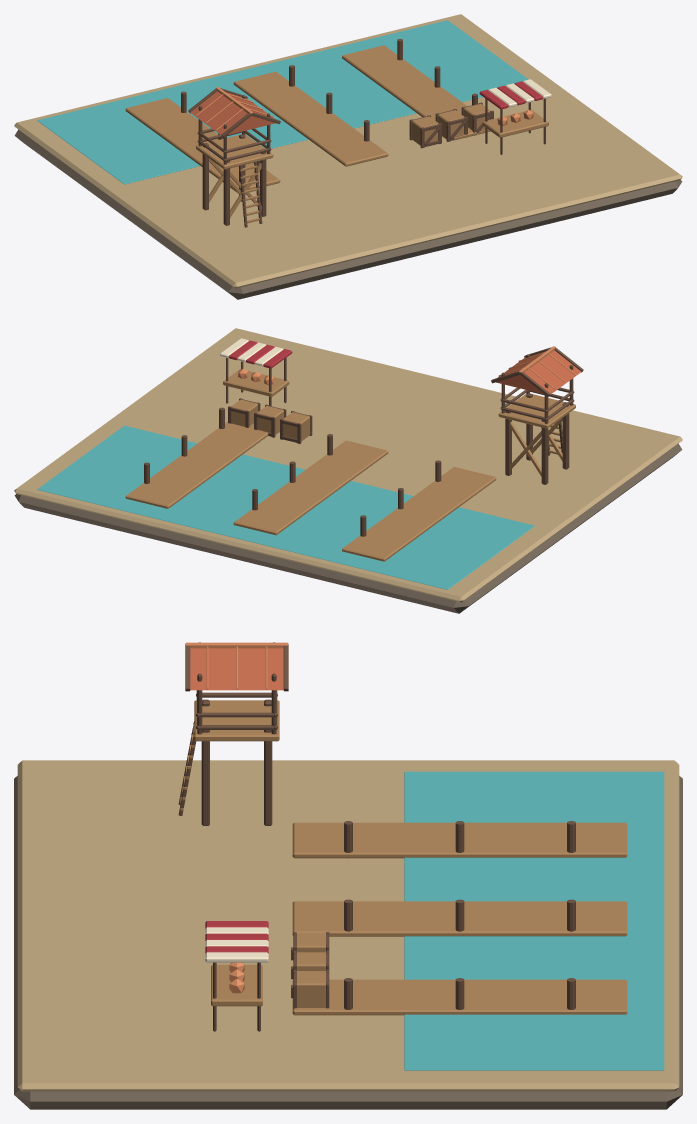
The model's file is world-harbor.glb.
3 renders of one model, top to bottom at view 1: azimuth 30°, elevation 25°; view 2: azimuth 150°, elevation 25°; view 3: azimuth 270°, elevation 25°, orthographic. The views are drawn at different scales.
Parts seen in each view (by area): view 1: terrain-top, sea, terrain-stratum, jetty.001, jetty.002, jetty, tower-canopy.001, tower-deck.001, counter.001, crate-body.001, crate-body.002; view 2: terrain-top, sea, terrain-stratum, jetty.001, jetty, jetty.002, tower-canopy.001, tower-deck.001, counter.001, crate-body.001, crate-body.002, crate-body.003 (+2 smaller); view 3: terrain-top, sea, terrain-stratum, jetty, jetty.001, jetty.002, tower-canopy.001, tower-deck.001, counter.001, crate-body.003, tower-leg.006, tower-leg.007 (+1 smaller).
Boxes of the visible parts, x1,y1,x2,y2 form: terrain-top: [14, 14, 682, 288]; sea: [37, 20, 528, 184]; terrain-stratum: [14, 129, 682, 299]; jetty.001: [233, 71, 388, 166]; jetty.002: [342, 45, 490, 140]; jetty: [125, 98, 280, 192]; tower-canopy.001: [190, 91, 275, 135]; tower-deck.001: [196, 134, 273, 169]; counter.001: [482, 109, 548, 137]; crate-body.001: [411, 116, 438, 145]; crate-body.002: [437, 110, 464, 139]; terrain-top: [14, 328, 682, 602]; sea: [37, 425, 534, 589]; terrain-stratum: [14, 443, 682, 613]; jetty.001: [233, 440, 388, 535]; jetty: [342, 467, 496, 561]; jetty.002: [125, 421, 268, 508]; tower-canopy.001: [496, 350, 581, 394]; tower-deck.001: [498, 394, 575, 428]; counter.001: [223, 369, 289, 396]; crate-body.001: [283, 412, 310, 441]; crate-body.002: [257, 406, 284, 434]; crate-body.003: [231, 399, 258, 426]; terrain-top: [17, 760, 679, 1091]; sea: [404, 771, 664, 1070]; terrain-stratum: [14, 776, 682, 1109]; jetty: [292, 822, 627, 858]; jetty.001: [292, 901, 627, 936]; jetty.002: [292, 979, 627, 1015]; tower-canopy.001: [190, 648, 283, 690]; tower-deck.001: [194, 700, 279, 741]; counter.001: [211, 964, 262, 1006]; crate-body.003: [296, 971, 326, 1007]; tower-leg.006: [201, 730, 209, 825]; tower-leg.007: [264, 730, 272, 825].
Bounding box in the file's own units: 21 × 5.88 × 18.
